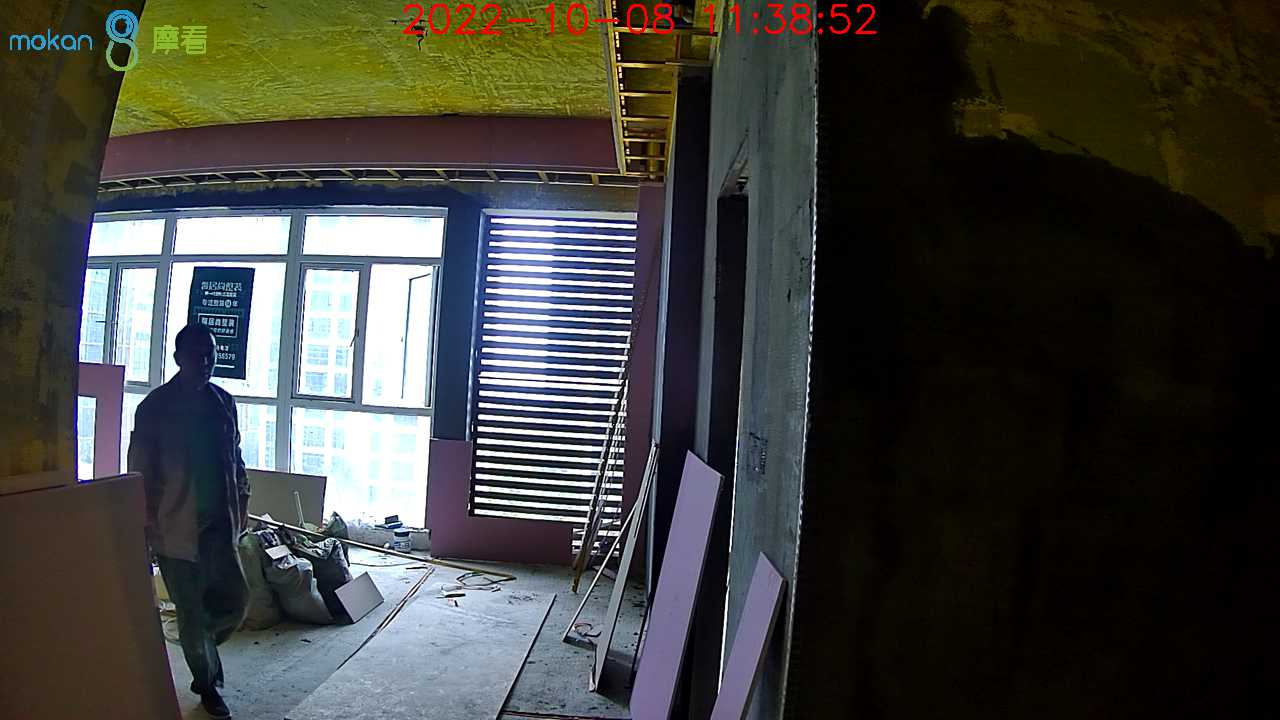people: (130, 326, 253, 719)
window: (73, 203, 446, 530)
